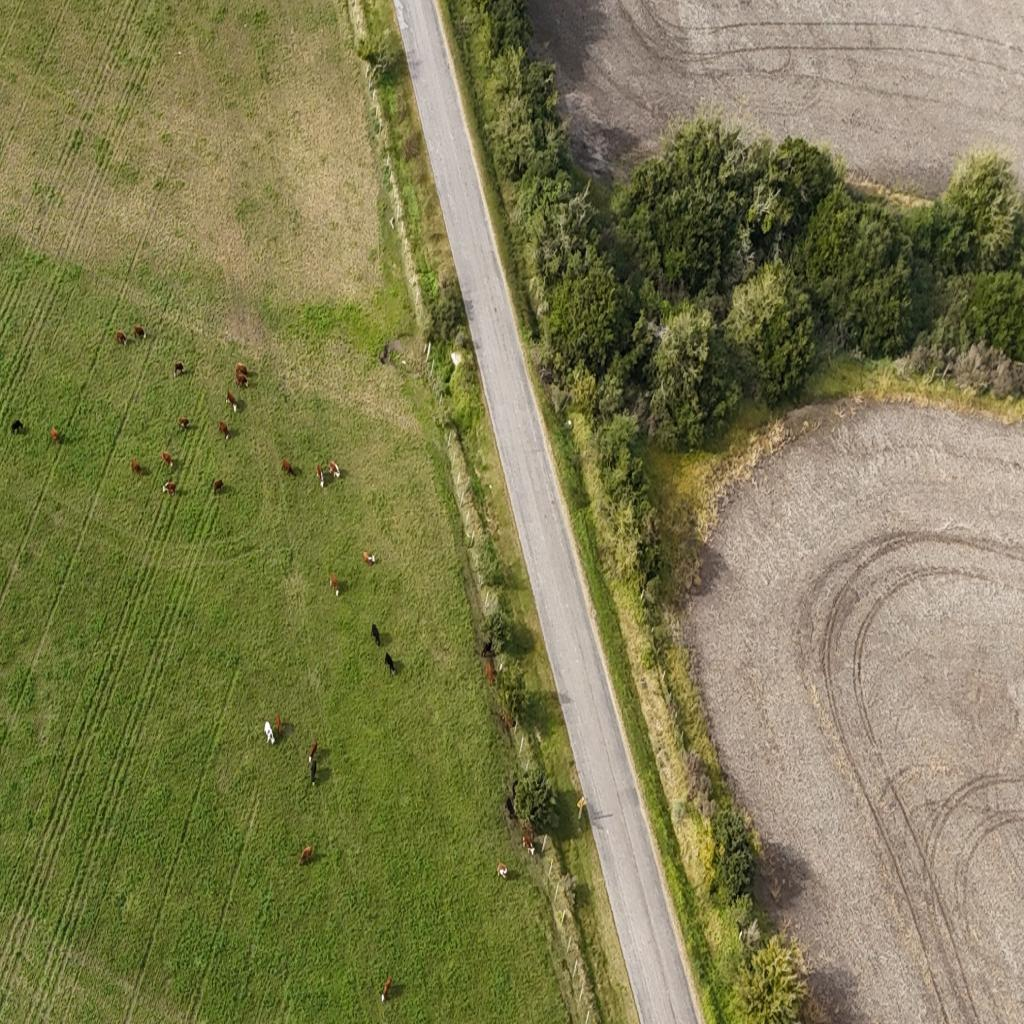cow: (262, 717, 275, 747), (308, 761, 320, 793), (274, 712, 288, 738), (236, 363, 249, 388), (502, 711, 515, 736), (380, 978, 392, 1004), (504, 794, 516, 820), (306, 737, 318, 763), (224, 390, 236, 414), (384, 650, 395, 676), (160, 450, 174, 470), (522, 833, 534, 856), (10, 418, 26, 435), (485, 661, 495, 686), (281, 458, 294, 477), (218, 421, 230, 441), (362, 551, 377, 567), (300, 846, 312, 866), (482, 640, 494, 659), (371, 623, 380, 647), (164, 478, 176, 495), (316, 465, 324, 490), (497, 863, 508, 881), (330, 574, 338, 598), (178, 416, 190, 431), (134, 326, 146, 341), (131, 459, 142, 475), (117, 331, 128, 346), (214, 478, 224, 494), (174, 362, 184, 378), (51, 427, 60, 444), (330, 462, 338, 480)
